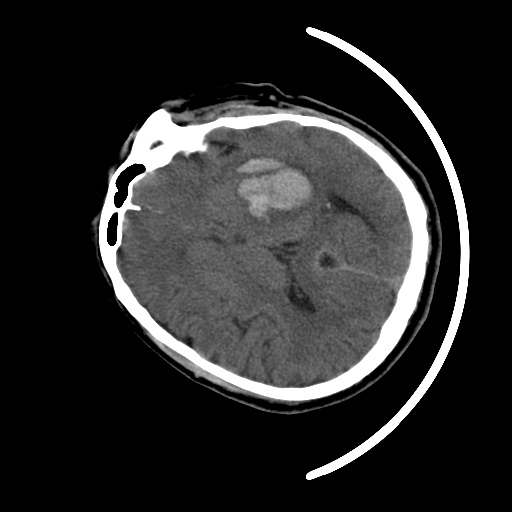a: (211, 143, 328, 237)
